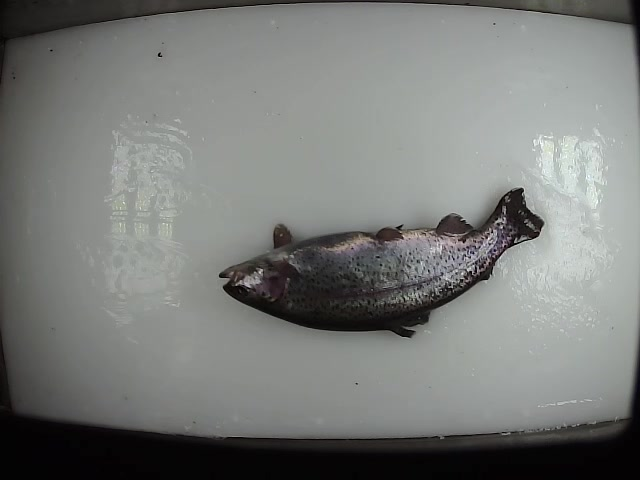fish: (217, 185, 545, 344)
